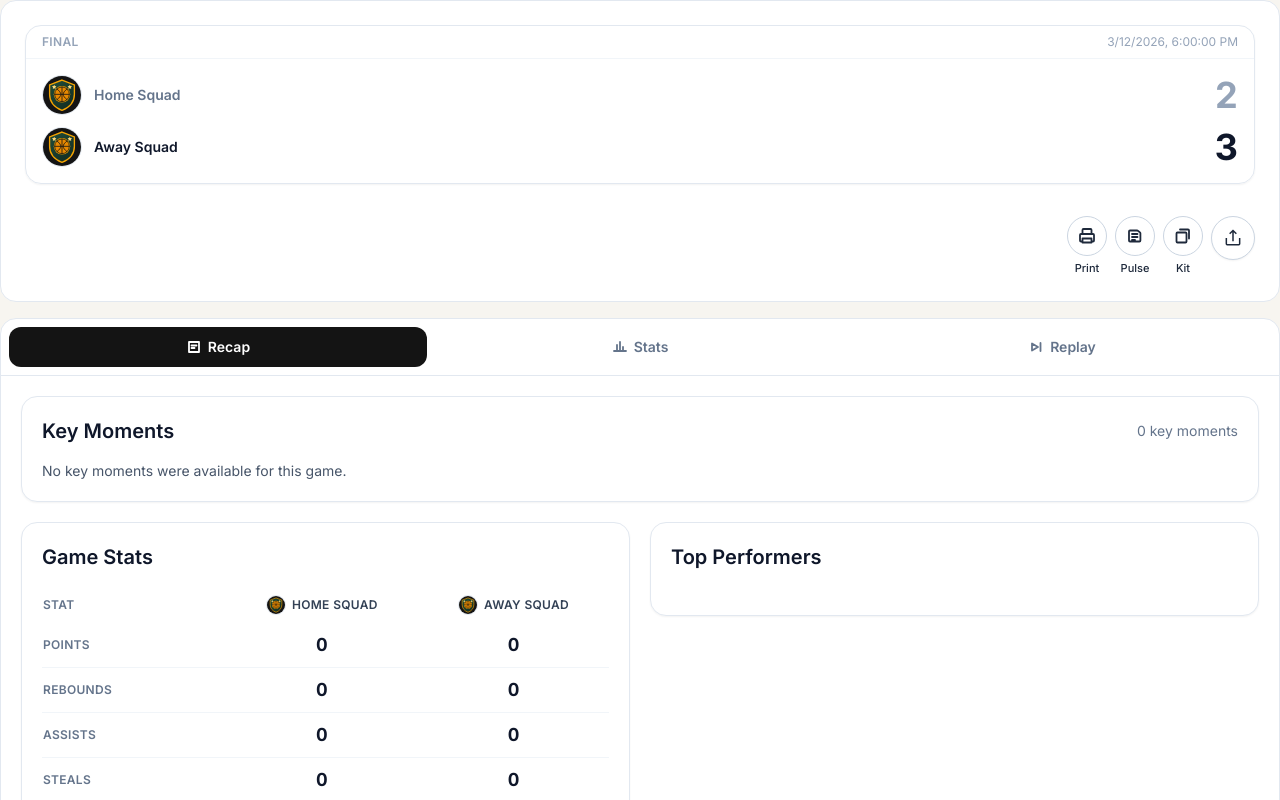
Scenario: GameDetailPage › replays dual-team games with side filters and side-specific box scores
This screenshot has width=1280, height=800.
Click the tab "Replay" at coordinates (1062, 346), box [853, 326, 1271, 366]
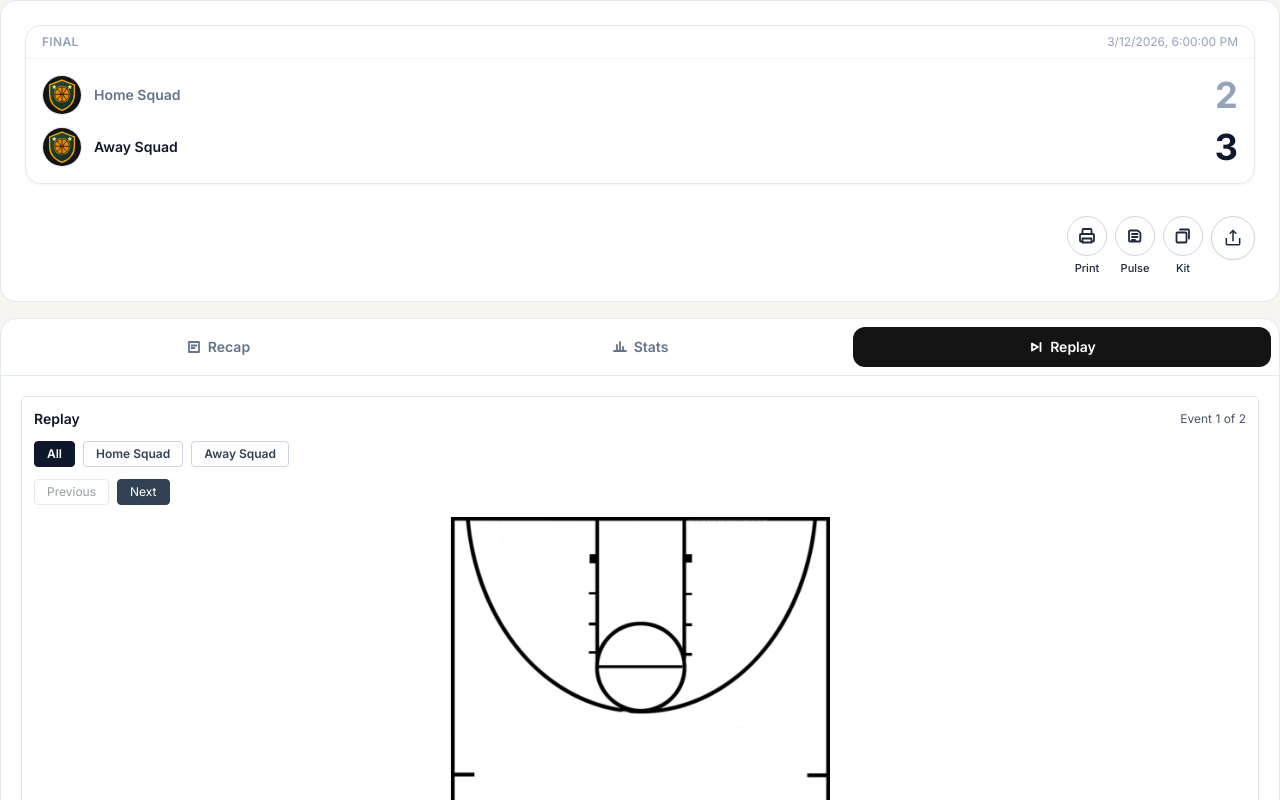
expect the button "Home Squad" is shown: met, box [83, 440, 183, 466]
expect the text "Event 1 of 2" is shown: met, box [1180, 410, 1246, 426]
expect the button "All" is shown: met, box [34, 440, 75, 466]
Click the button "Next" at coordinates (143, 492), box [117, 478, 170, 504]
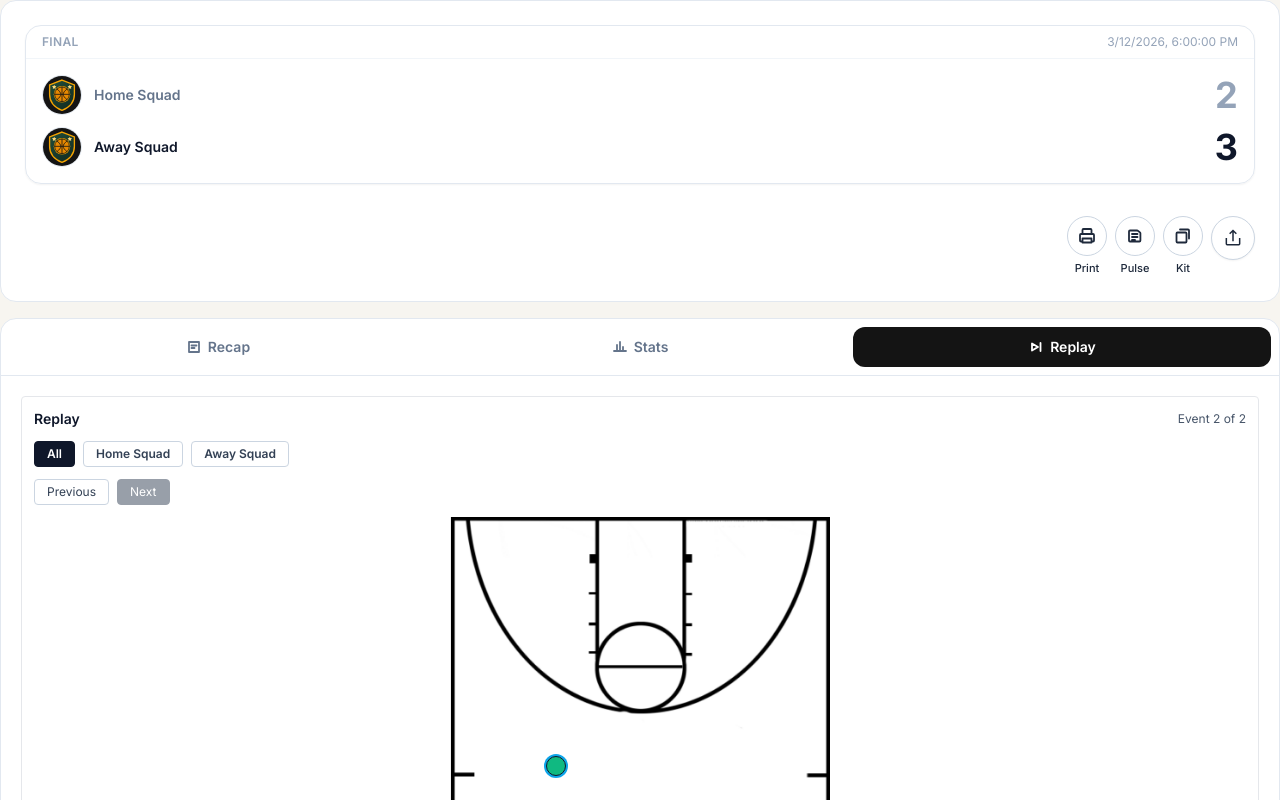
expect the text "Event 2 of 2" is shown: met, box [1178, 410, 1246, 426]
Click the button "Home Squad" at coordinates (133, 454), box [83, 440, 183, 466]
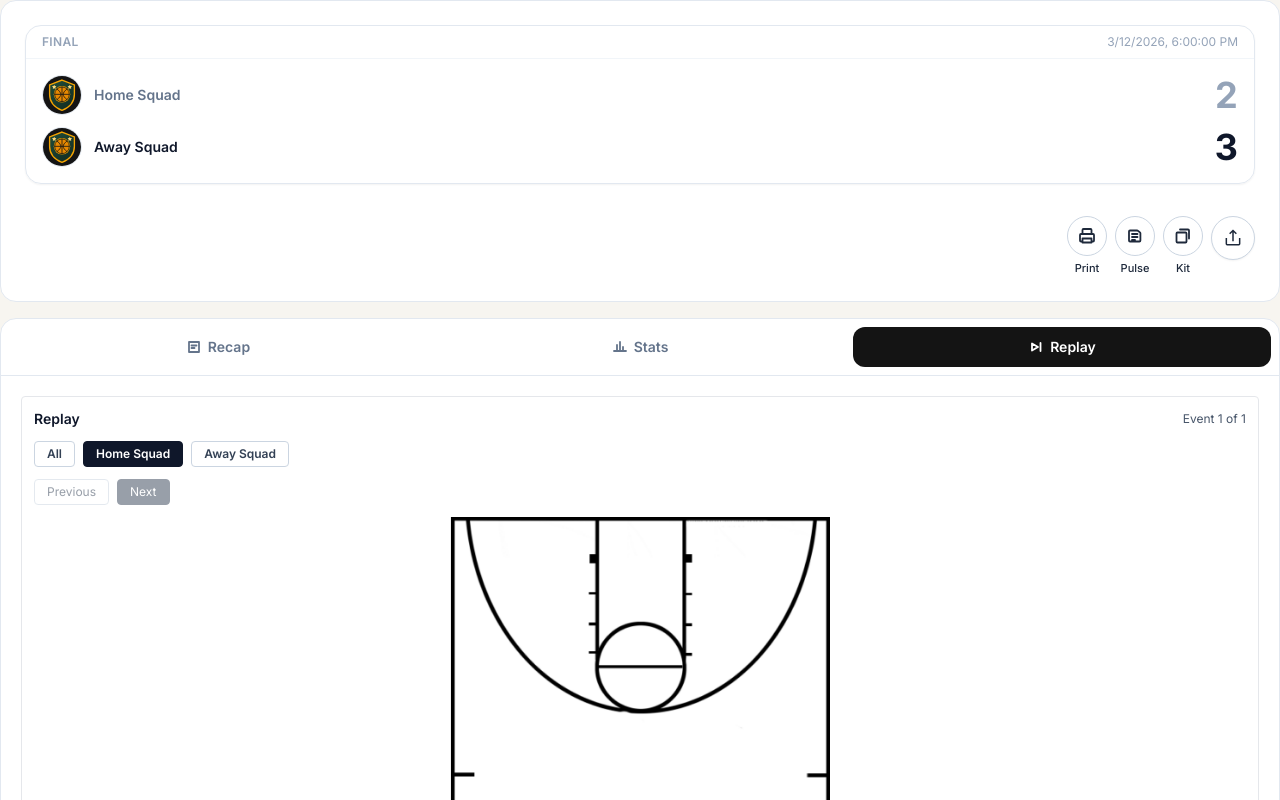
expect the text "Event 1 of 1" is shown: met, box [1183, 410, 1246, 426]
Click the button "Away Squad" at coordinates (240, 454), box [191, 440, 289, 466]
(page scrolled)
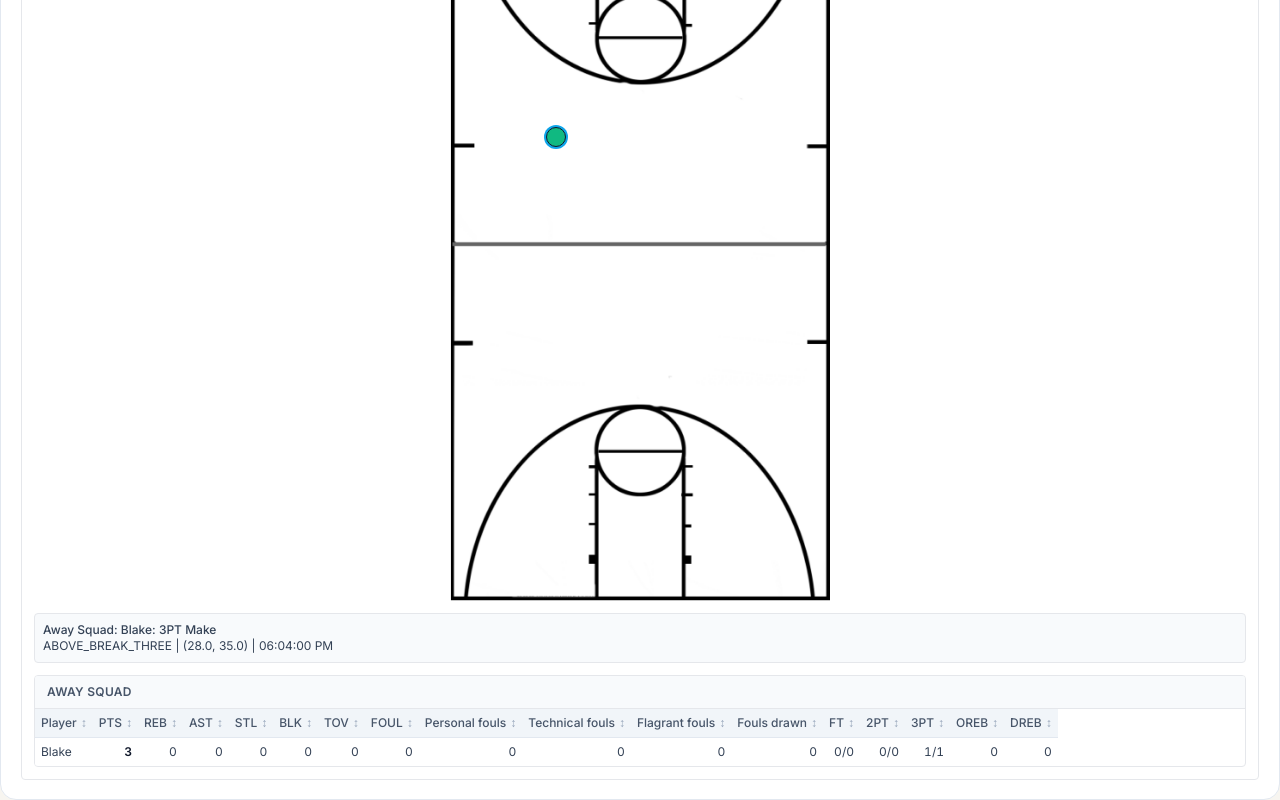
expect the text "Away Squad: Blake: 3PT Make" is shown: met, box [43, 621, 216, 636]
expect the element with test id "replay-box-score-away" is shown: met, box [34, 674, 1246, 766]
